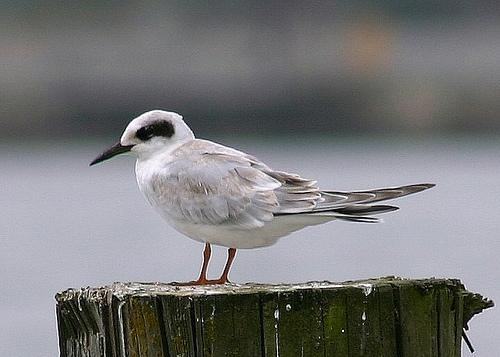bird: (90, 109, 438, 284)
